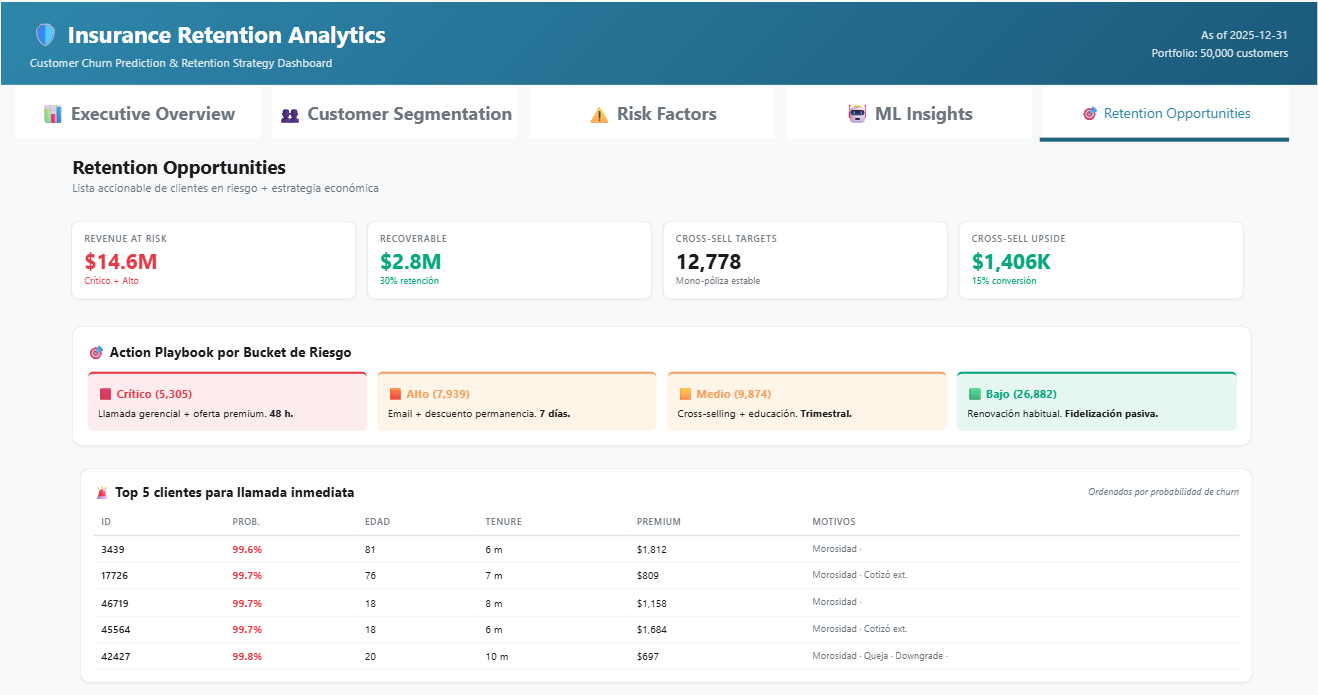

The page's visual inventory and layout, read from the dashboard file:
{"tool":"powerbi","page":{"name":"🎯 Retention Opportunities","canvas":[1280,720],"ordinal":4},"visuals":[{"type":"htmlContent443BE3AD55E043BF878BED274D3A6855","fields":{"content":["_Measures.HTML_PageHeader"]},"box":[0,10,1280,100],"z":0},{"type":"pageNavigator","box":[17.8,97,1233.5,50.4],"z":1000},{"type":"shape","box":[1006.9,125.6,240.6,43.8],"z":2000},{"type":"htmlContent443BE3AD55E043BF878BED274D3A6855","fields":{"content":["_Measures.HTML_Top10HighRisk"]},"box":[76,459.3,1141.7,233.1],"z":3000},{"type":"htmlContent443BE3AD55E043BF878BED274D3A6855","fields":{"content":["_Measures.HTML_ActionPlaybook"]},"box":[69.1,322,1148.6,129.4],"z":7000},{"type":"htmlContent443BE3AD55E043BF878BED274D3A6855","fields":{"content":["_Measures.HTML_RetentionKPIs"]},"box":[68.1,221.2,1141.7,92.8],"z":7001},{"type":"htmlContent443BE3AD55E043BF878BED274D3A6855","fields":{"content":["_Measures.HTML_Title_Retention"]},"box":[69.1,154.1,1141.7,60.2],"z":7002}]}

Visuals, with their boxes on the page's 1280x720 design canvas (x1, y1, x2, y2). These are canvas units, not pixel positions in the 1318x695 screenshot, which may show the page scaled, cropped or inside an application window:
htmlContent443BE3AD55E043BF878BED274D3A6855 - _Measures.HTML_PageHeader: (left=0, top=10, right=1280, bottom=110)
pageNavigator: (left=18, top=97, right=1251, bottom=147)
shape: (left=1007, top=126, right=1248, bottom=169)
htmlContent443BE3AD55E043BF878BED274D3A6855 - _Measures.HTML_Top10HighRisk: (left=76, top=459, right=1218, bottom=692)
htmlContent443BE3AD55E043BF878BED274D3A6855 - _Measures.HTML_ActionPlaybook: (left=69, top=322, right=1218, bottom=451)
htmlContent443BE3AD55E043BF878BED274D3A6855 - _Measures.HTML_RetentionKPIs: (left=68, top=221, right=1210, bottom=314)
htmlContent443BE3AD55E043BF878BED274D3A6855 - _Measures.HTML_Title_Retention: (left=69, top=154, right=1211, bottom=214)
